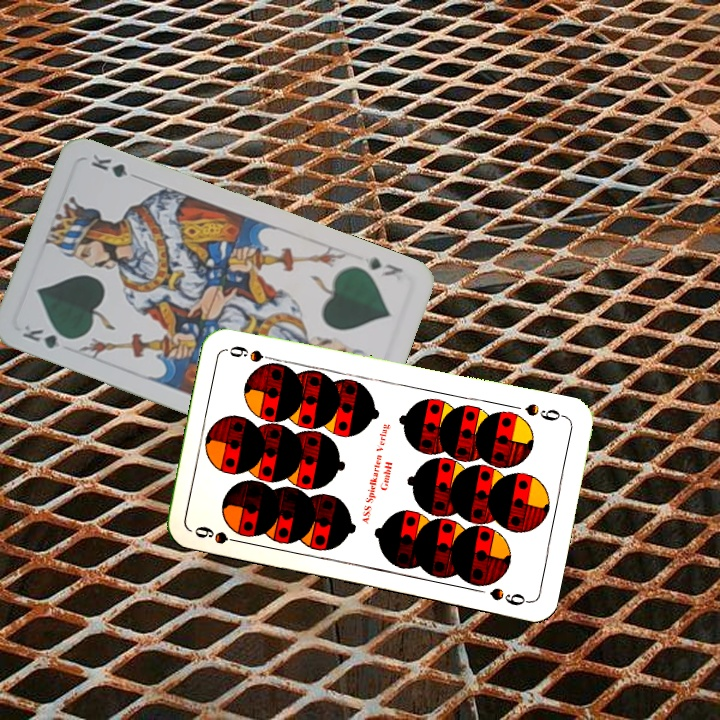GK: (18, 320, 76, 352), (359, 253, 406, 280)
S9: (190, 522, 248, 547), (521, 399, 569, 424)
